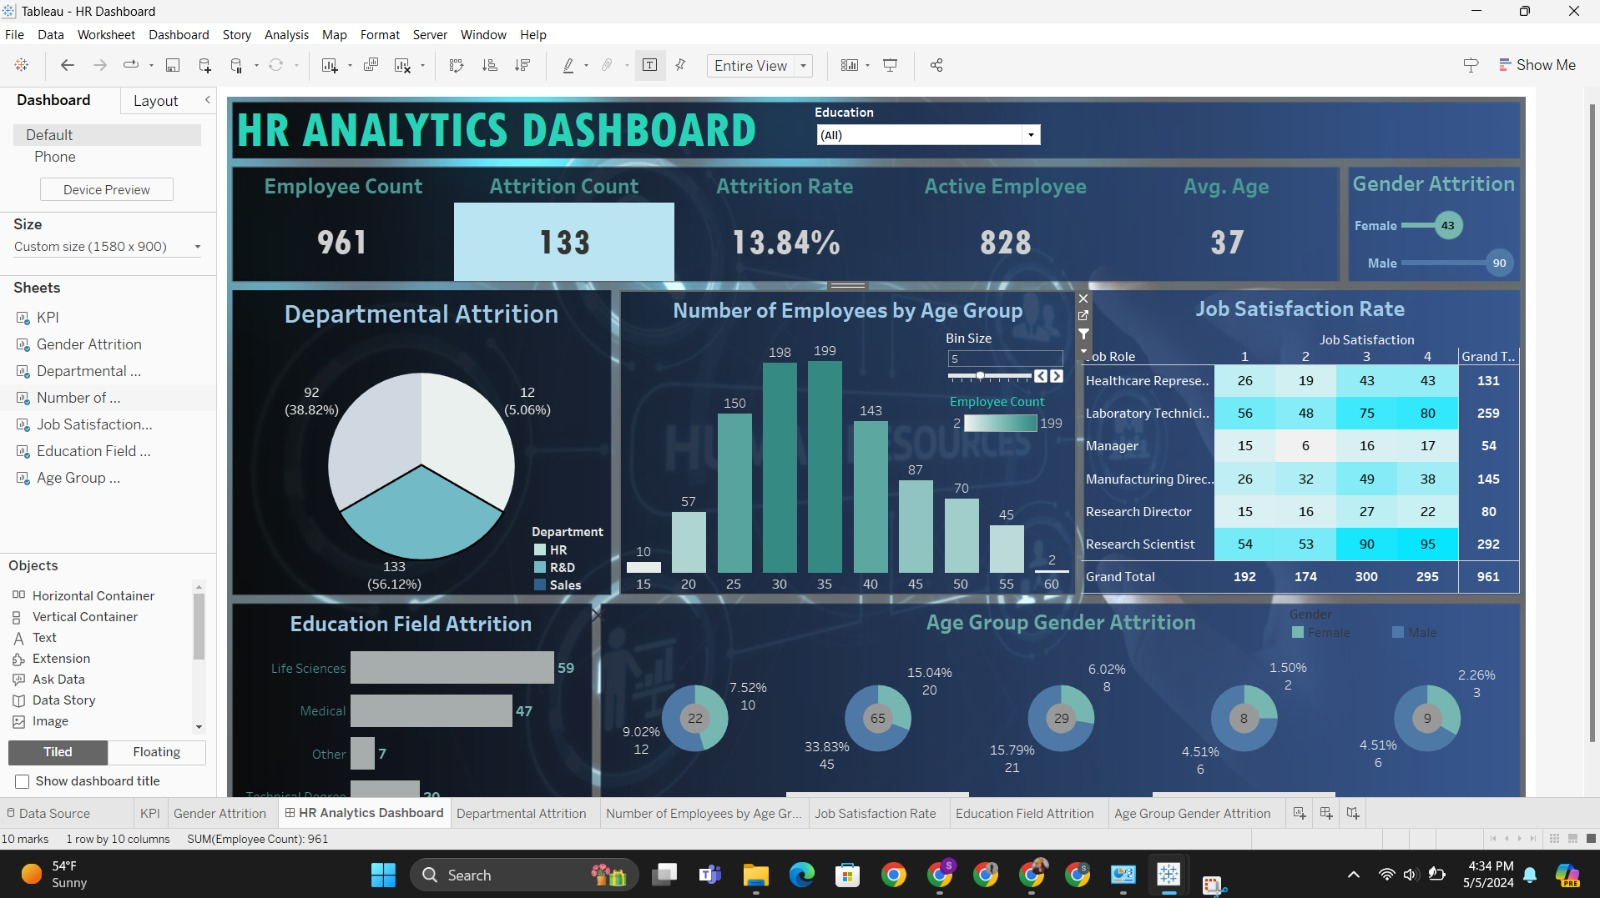

The dashboard page shown, as its layout file describes it:
{"tool":"tableau","page":{"name":"HR Analytics Dashboard","canvas":[1580,900],"ordinal":0},"visuals":[{"type":"image","param":"C:/Users/sreej/Downloads/HR background.pptx.png","box":[8,8,1564,884]},{"type":"text","box":[19,18,686,67]},{"type":"filter","title":"Departmental Attrition","param":"[federated.1tlnr0i1p9c14s1g1udvz1ux011z].[none:Education:nk]","box":[716,20,274,62]},{"type":"worksheet","title":"Gender Attrition","mark":"Automatic","rows":["Gender"],"cols":["Calculation_519602821293498368","Calculation_519602821293498368"],"box":[1355,94,206,140]},{"type":"worksheet","title":"KPI","mark":"Automatic","box":[19,97,1323,136]},{"type":"worksheet","title":"Job Satisfaction Rate","mark":"Square","rows":["Job Role"],"cols":["Job Satisfaction"],"box":[1035,244,526,364]},{"type":"worksheet","title":"Departmental Attrition","mark":"Pie","box":[19,246,452,362]},{"type":"worksheet","title":"Number of Employees by Age Group","mark":"Bar","rows":["Employee Count"],"cols":["Age (bin)"],"box":[484,246,544,362]},{"type":"parameter","param":"[Parameters].[Parameter 1]","box":[873,291,144,71]},{"type":"legend","title":"Number of Employees by Age Group","param":"[federated.1tlnr0i1p9c14s1g1udvz1ux011z].[sum:Employee Count:qk]","box":[878,367,140,88]},{"type":"legend","title":"Departmental Attrition","param":"[federated.1tlnr0i1p9c14s1g1udvz1ux011z].[none:Department:nk]","box":[377,523,101,87]},{"type":"worksheet","title":"Age Group Gender Attrition","mark":"Pie","rows":["Calculation_519602821442138118","Calculation_519602821442138118"],"cols":["CF_age band"],"box":[463,620,1097,258]},{"type":"worksheet","title":"Education Field Attrition","mark":"Automatic","rows":["Education Field"],"cols":["Calculation_519602821293498368"],"box":[20,622,425,255]},{"type":"dashboard-object","box":[445,622,24,24]},{"type":"legend","title":"Age Group Gender Attrition","param":"[federated.1tlnr0i1p9c14s1g1udvz1ux011z].[none:Gender:nk]","box":[1285,622,274,44]}]}

Visuals, with their boxes on the page's 1580x900 design canvas (x1, y1, x2, y2). These are canvas units, not pixel positions in the 1600x898 screenshot, which may show the page scaled, cropped or inside an application window:
image: BBox(8, 8, 1572, 892)
text: BBox(19, 18, 705, 85)
"Departmental Attrition" filter: BBox(716, 20, 990, 82)
"Gender Attrition" worksheet: BBox(1355, 94, 1561, 234)
"KPI" worksheet: BBox(19, 97, 1342, 233)
"Job Satisfaction Rate" worksheet (Square marks): BBox(1035, 244, 1561, 608)
"Departmental Attrition" worksheet (Pie marks): BBox(19, 246, 471, 608)
"Number of Employees by Age Group" worksheet (Bar marks): BBox(484, 246, 1028, 608)
parameter: BBox(873, 291, 1017, 362)
"Number of Employees by Age Group" legend: BBox(878, 367, 1018, 455)
"Departmental Attrition" legend: BBox(377, 523, 478, 610)
"Age Group Gender Attrition" worksheet (Pie marks): BBox(463, 620, 1560, 878)
"Education Field Attrition" worksheet: BBox(20, 622, 445, 877)
dashboard-object: BBox(445, 622, 469, 646)
"Age Group Gender Attrition" legend: BBox(1285, 622, 1559, 666)
